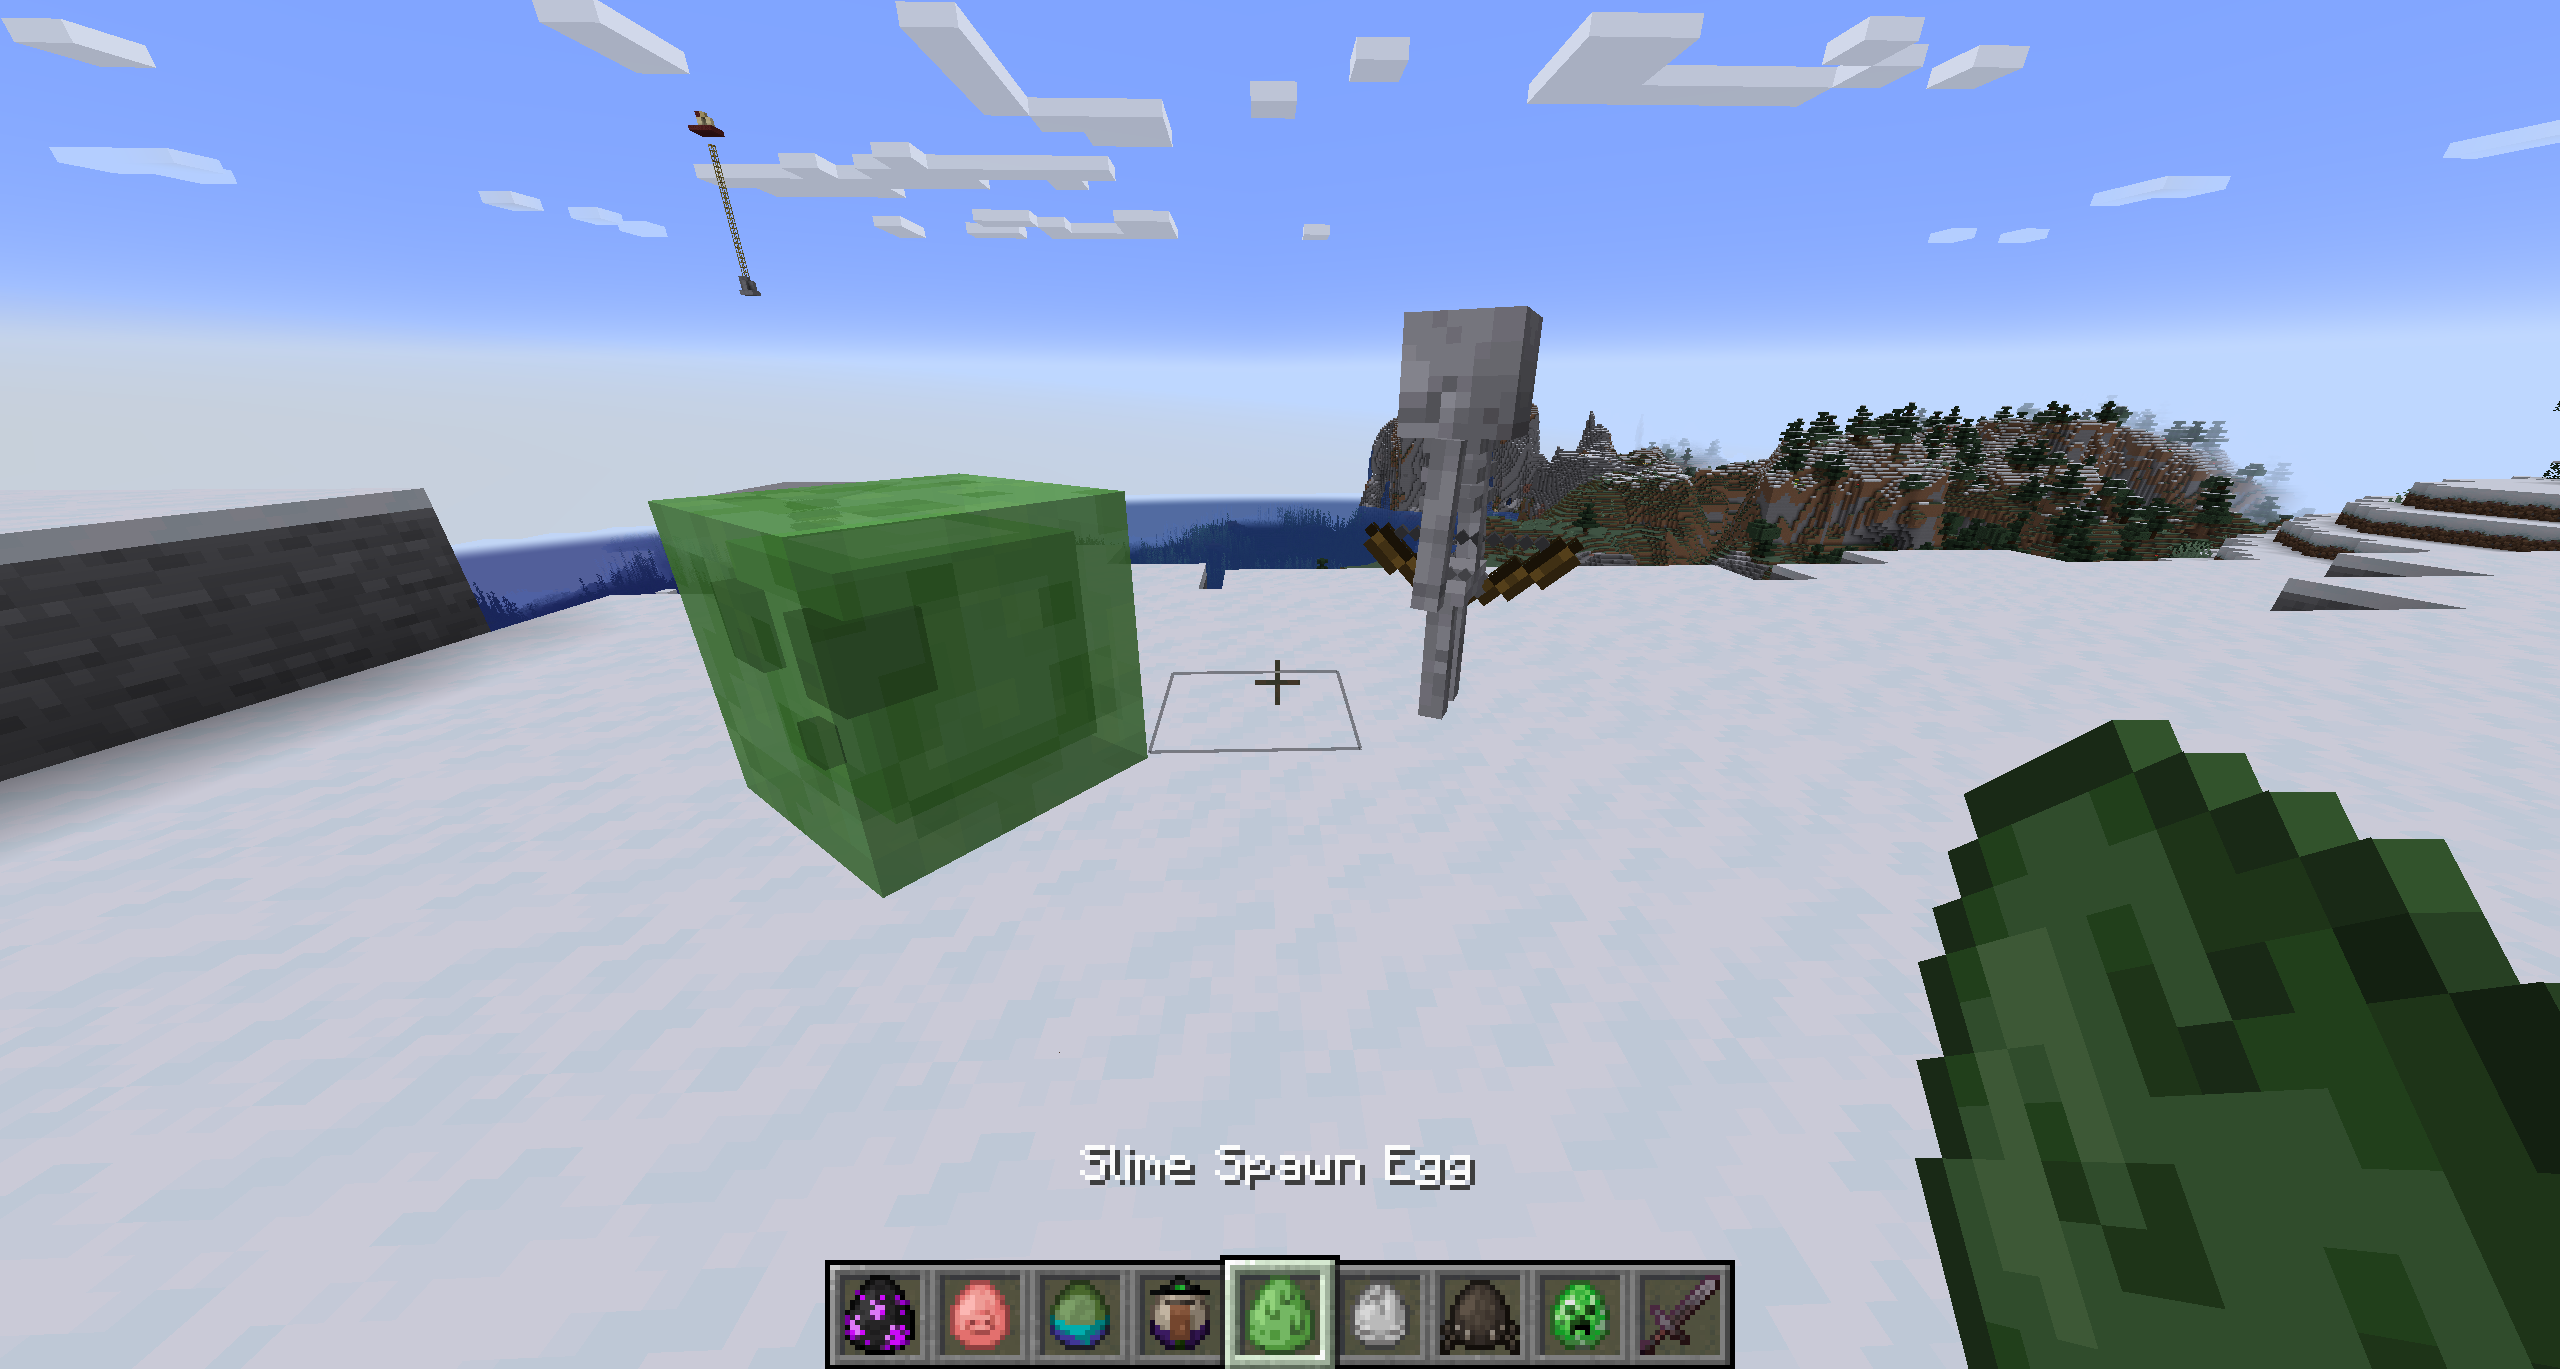slimes: (630, 445, 1145, 900)
squelettes: (1392, 303, 1563, 721)
